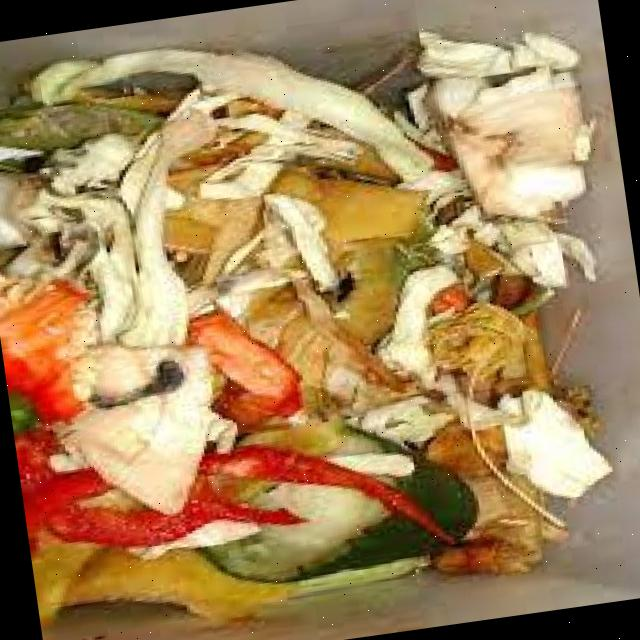Wet: (0, 0, 640, 640), (168, 408, 512, 612)
